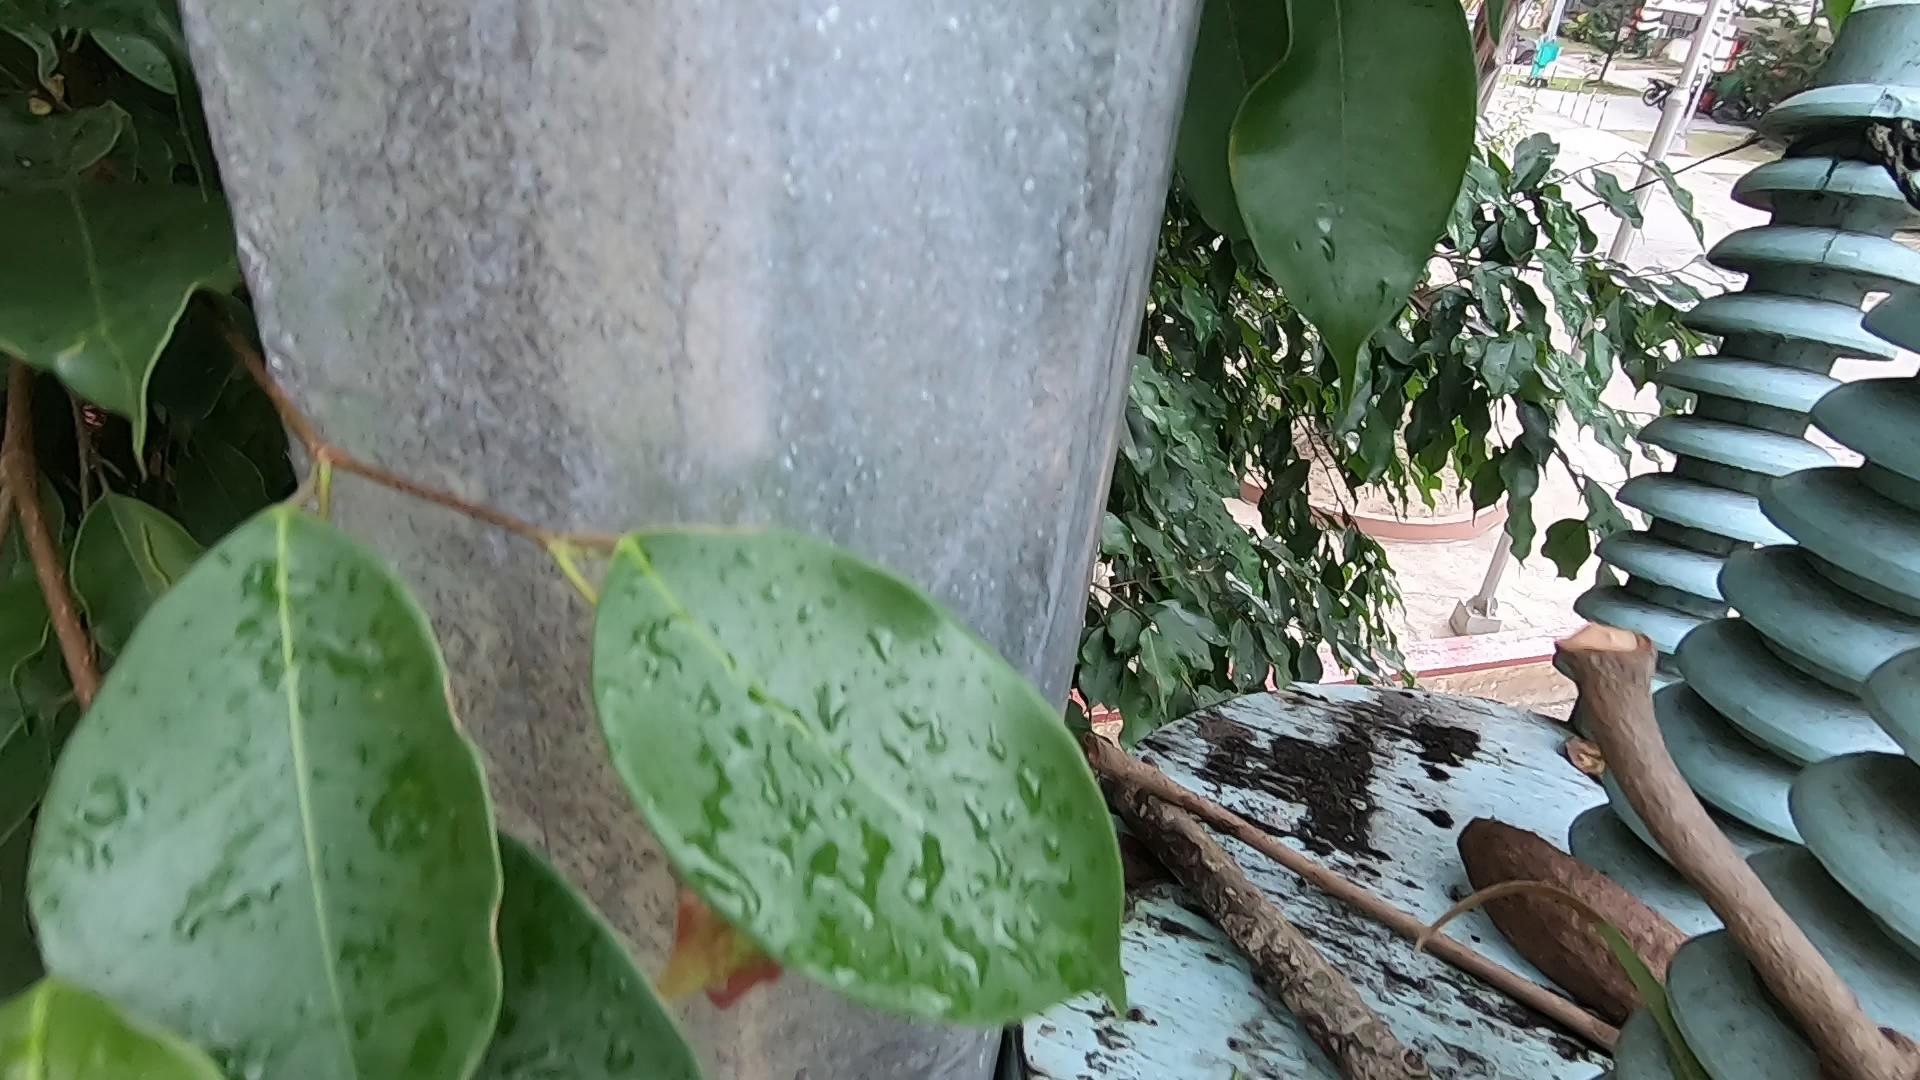branch with leaves: (1083, 715, 1404, 1080)
leaf: (1535, 731, 1651, 781)
mahogany fruit: (1455, 823, 1727, 1019)
tree branch: (1567, 582, 1912, 1058), (1091, 740, 1639, 1007)
